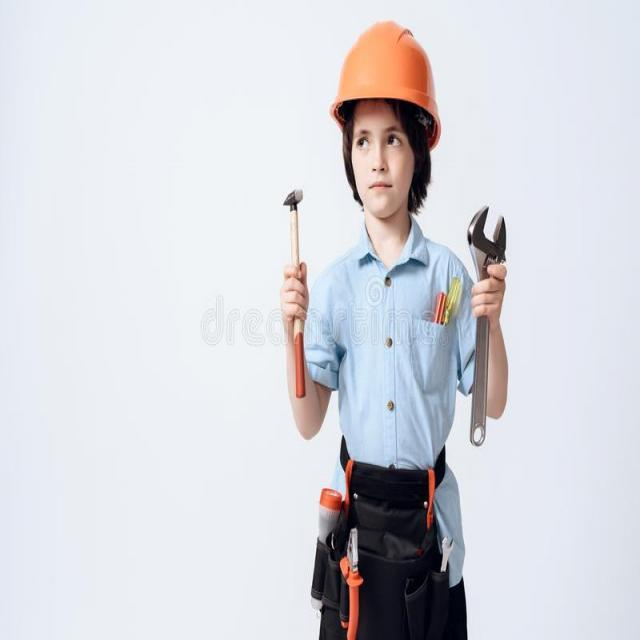hammer: (276, 171, 318, 423)
